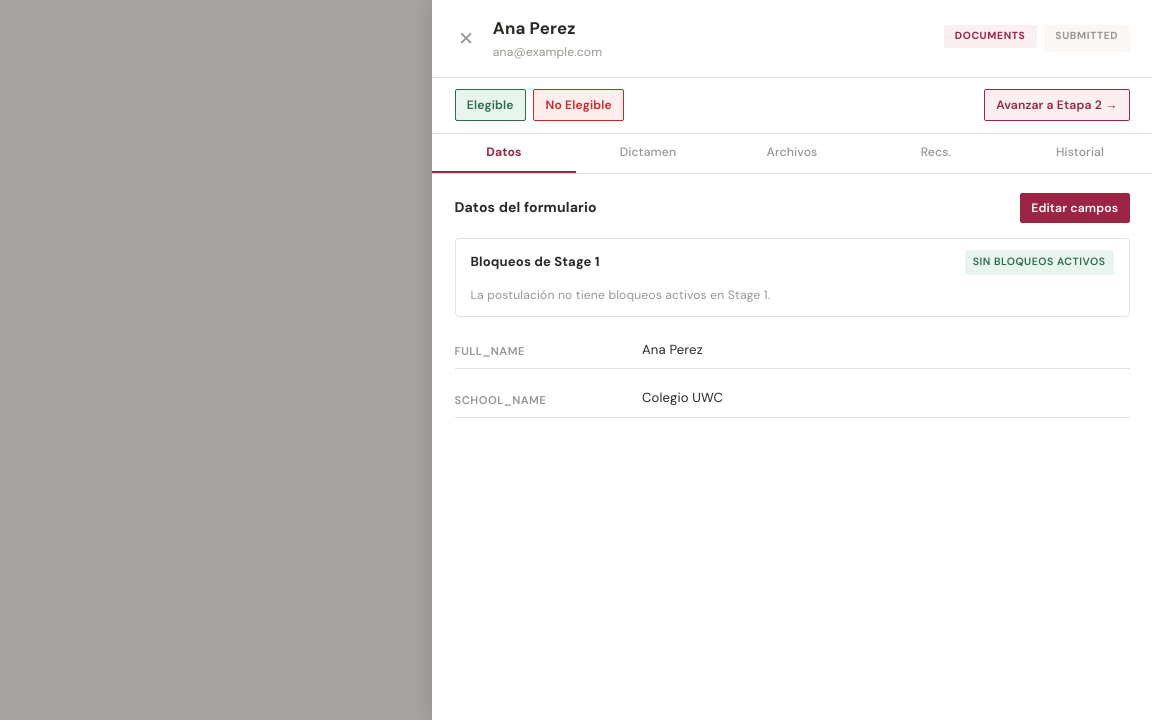
AdminApplicationViewer › runs AI parsing from file cards when parser is enabled
Check: the heading "Ana Perez" is shown, box [493, 17, 576, 39]
Click the button "Archivos" at (792, 153), box [720, 134, 864, 173]
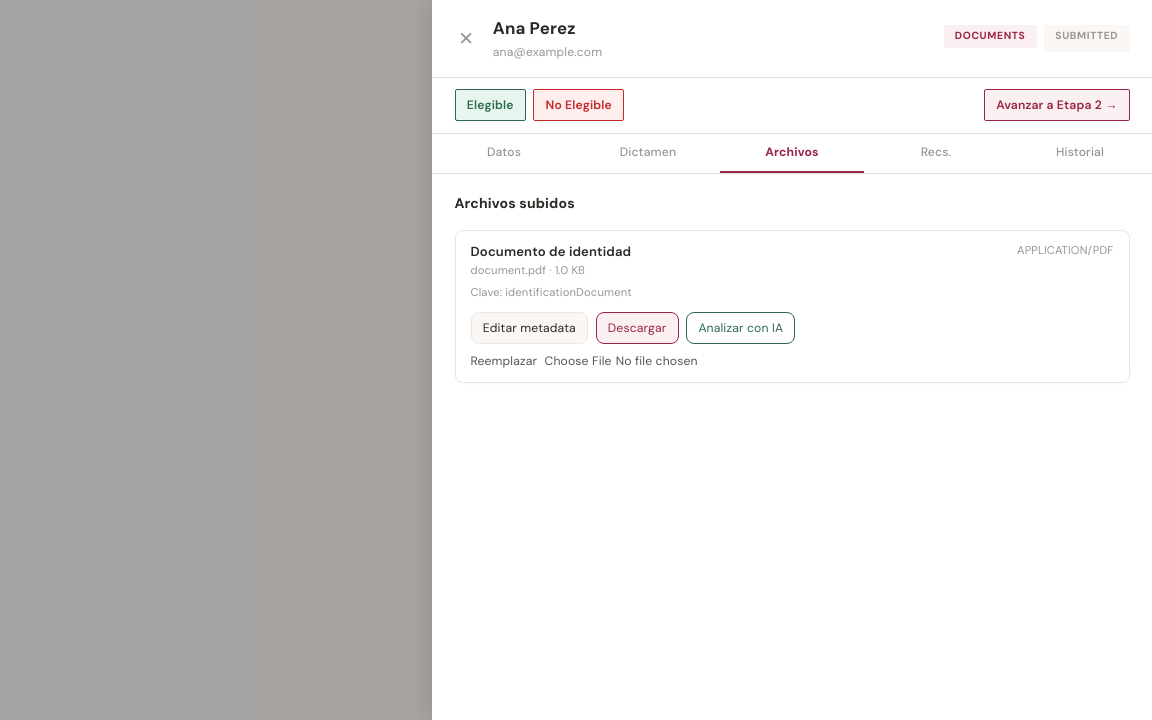
Click the button "Analizar con IA" at (741, 328), box [686, 312, 795, 344]
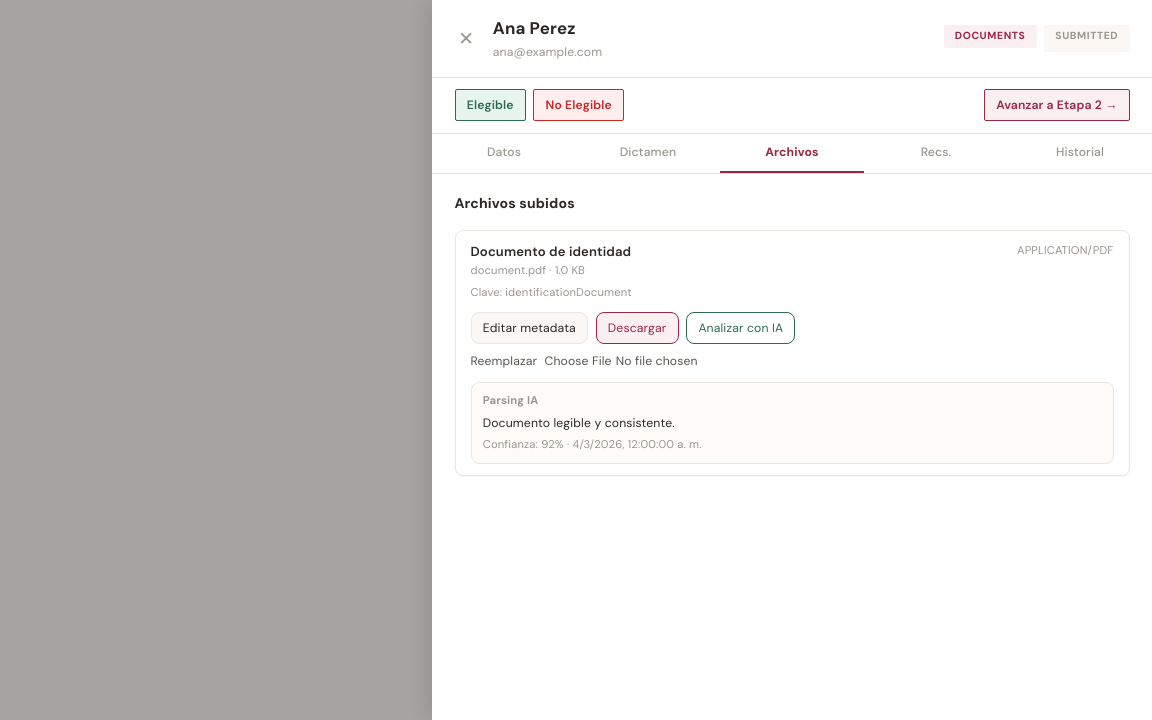
Check: the text "Documento legible y consistente." is shown, box [483, 415, 675, 431]
